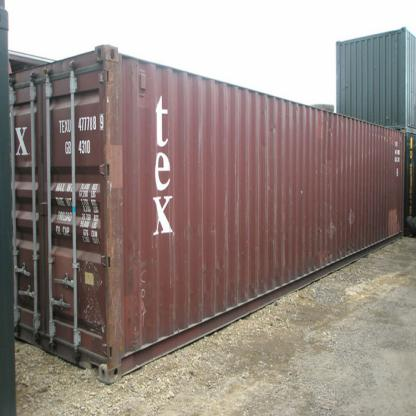Damage: (315, 120, 335, 159), (260, 113, 286, 140), (260, 169, 276, 203), (320, 213, 340, 238), (345, 208, 361, 236), (196, 259, 222, 276), (204, 217, 220, 238)
